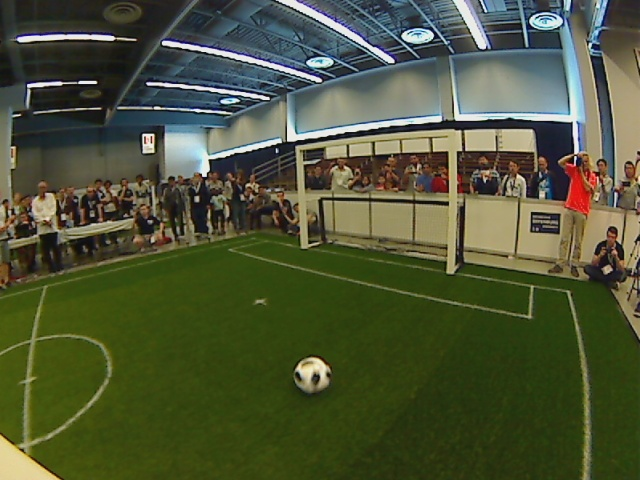ball: (292, 358, 332, 394)
